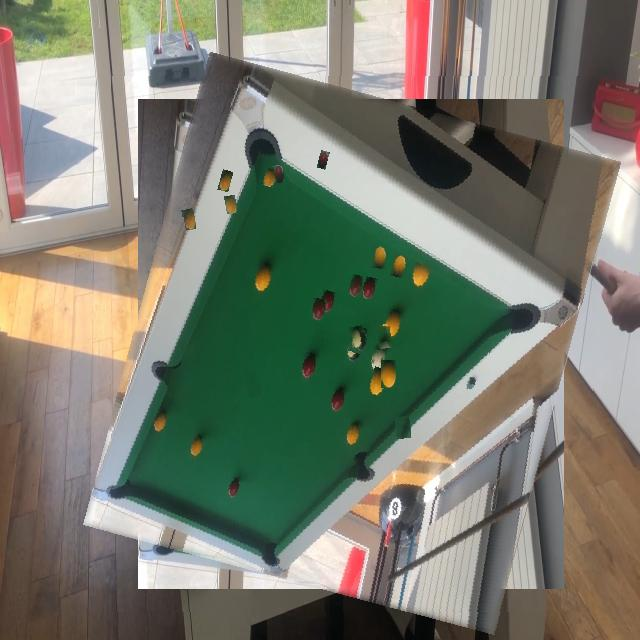Ball: (244, 371, 261, 398), (382, 360, 397, 388), (351, 326, 367, 352), (396, 416, 412, 439), (377, 325, 392, 349), (311, 299, 327, 321), (349, 274, 363, 298), (373, 246, 386, 269), (183, 209, 196, 230), (225, 196, 238, 214), (273, 165, 284, 183)
Billiard table: (111, 76, 594, 612)
